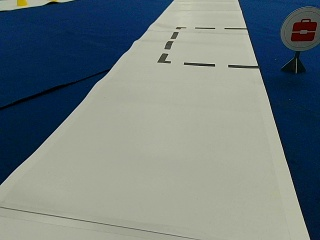company: (280, 6, 320, 50)
